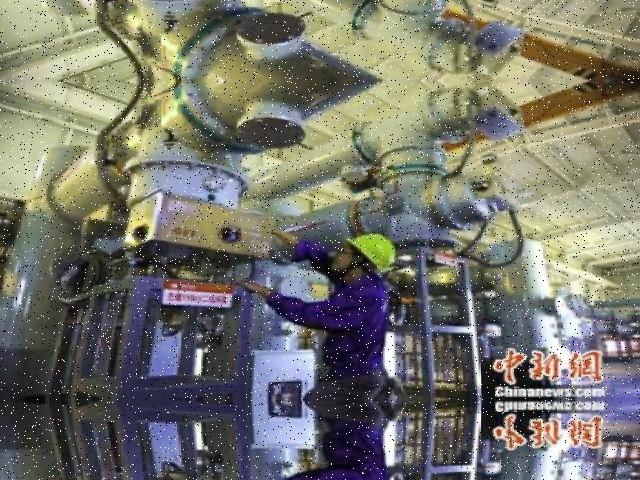Helmet: (341, 231, 400, 274)
